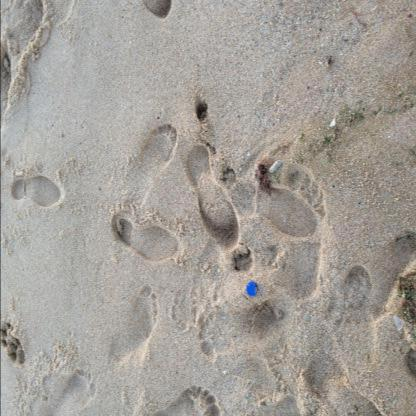Bottle: (246, 281, 257, 297)
Other plastic: (393, 315, 404, 331)
